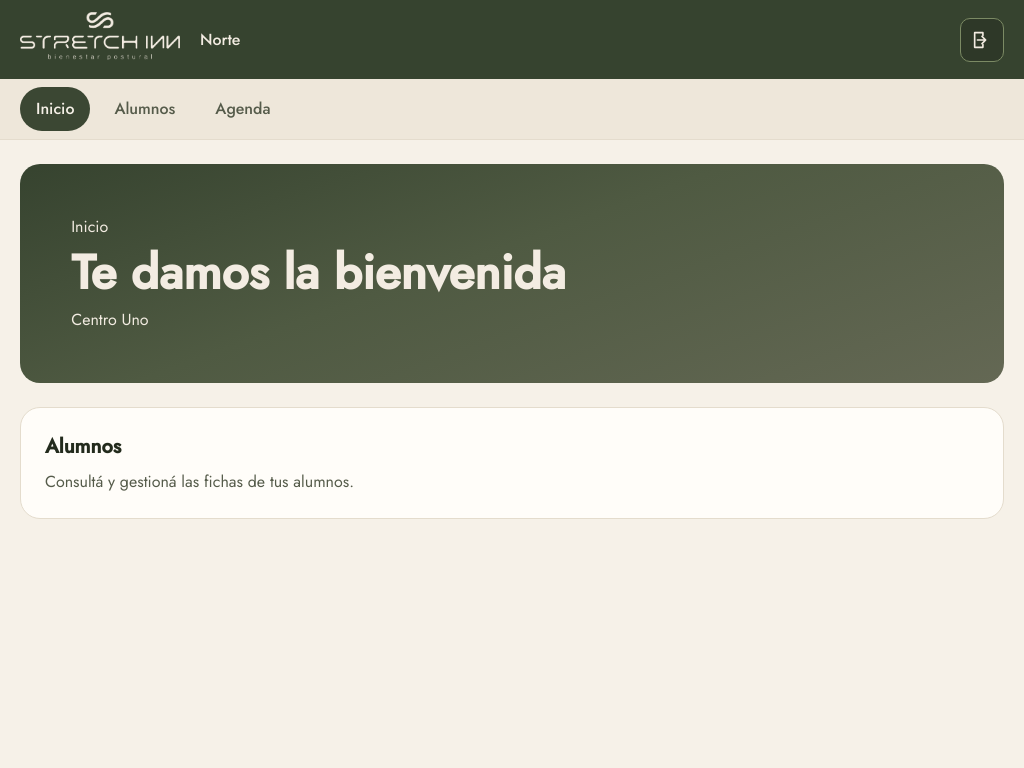
it: después de confirmar bien limpia la búsqueda y el alumno elegido y avisa
Click the link "Agenda" at (243,109), box [215,97,270,120]
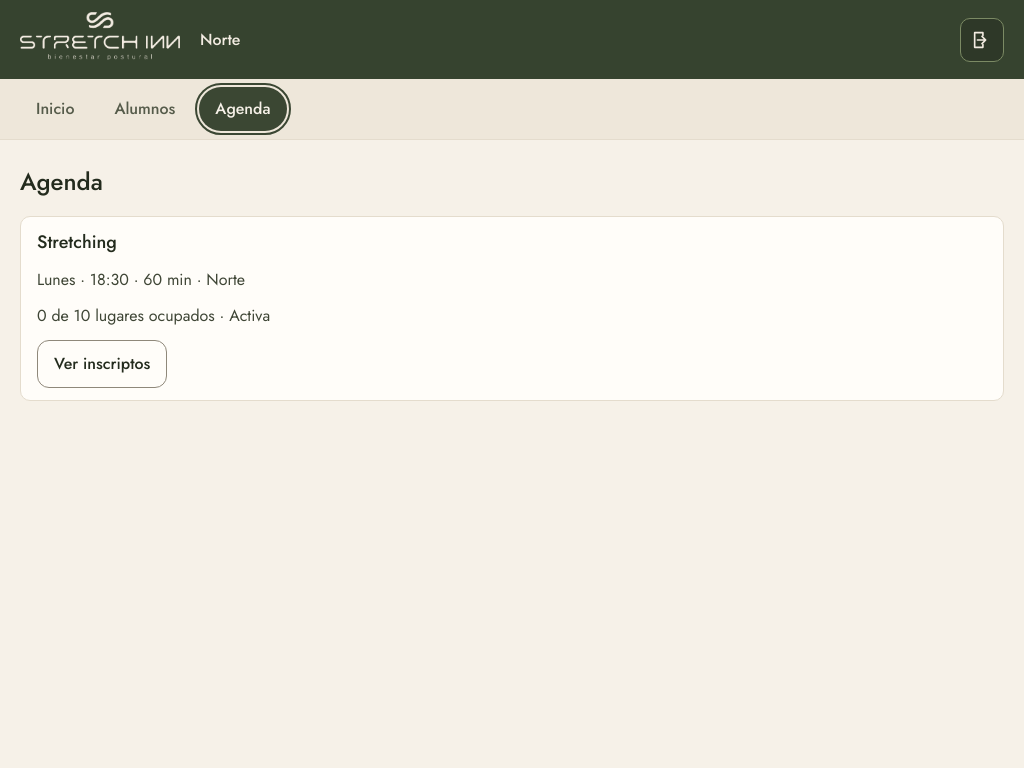
Click the button "Ver inscriptos" at (102,364), box [37,340,167,388]
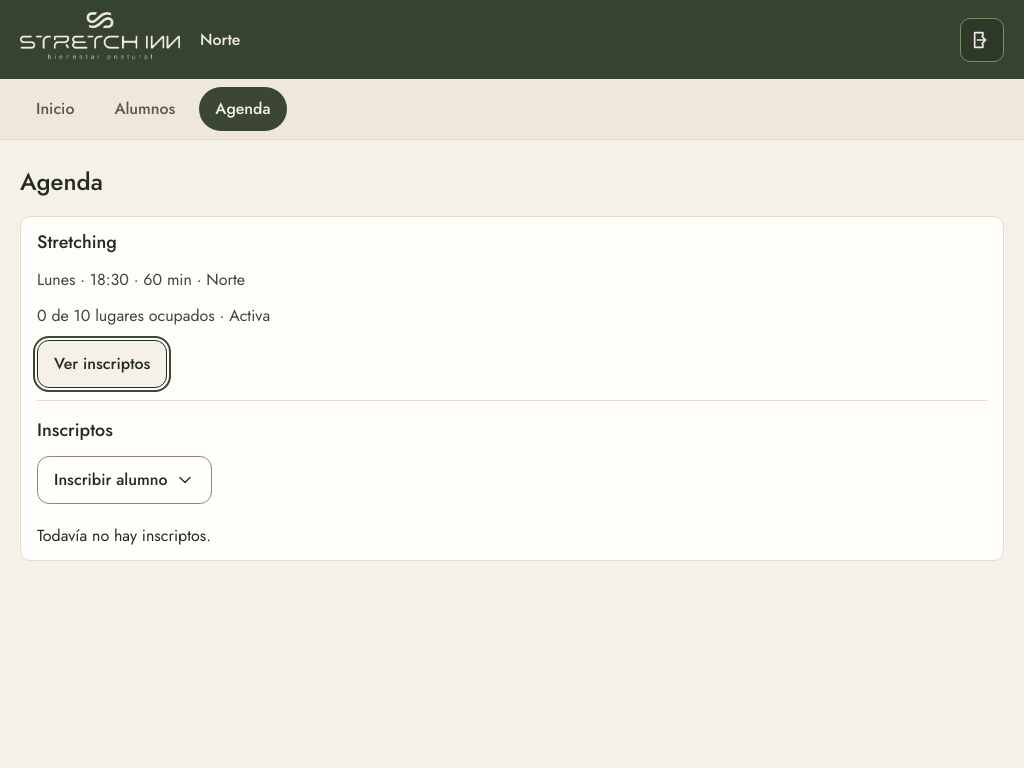
Click the heading "Inscribir alumno" at (125,480), box [37,456,212,504]
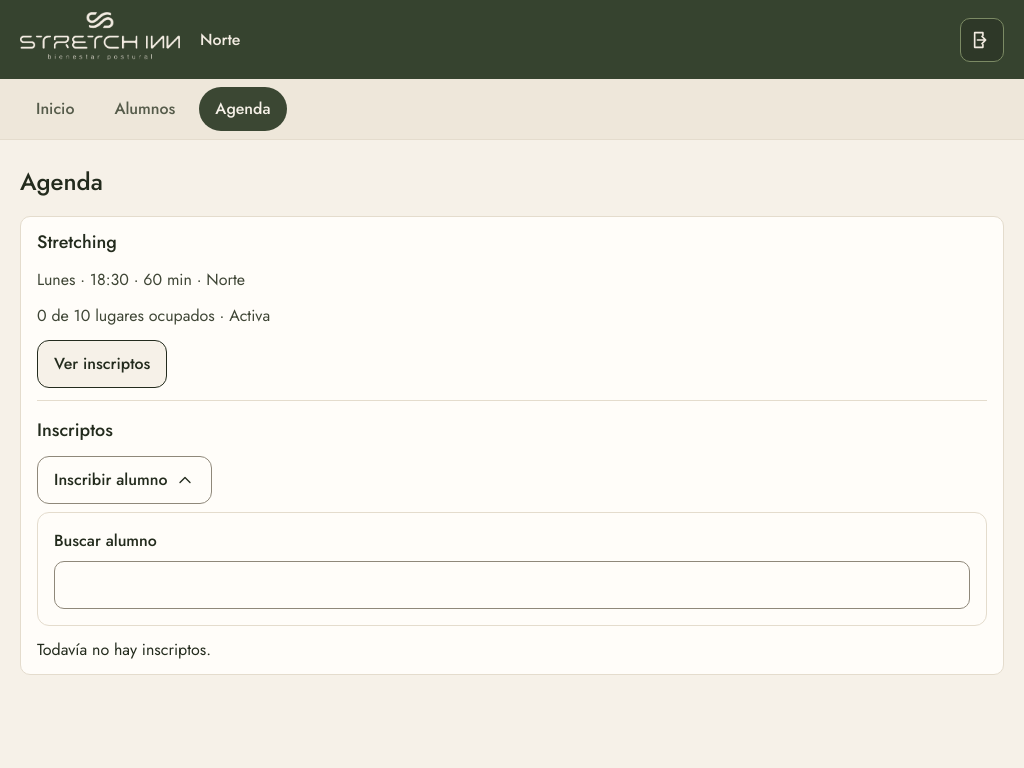
Type "Ana" into the search field labelled "Buscar alumno" at (512,585), box [54,561,970,609]
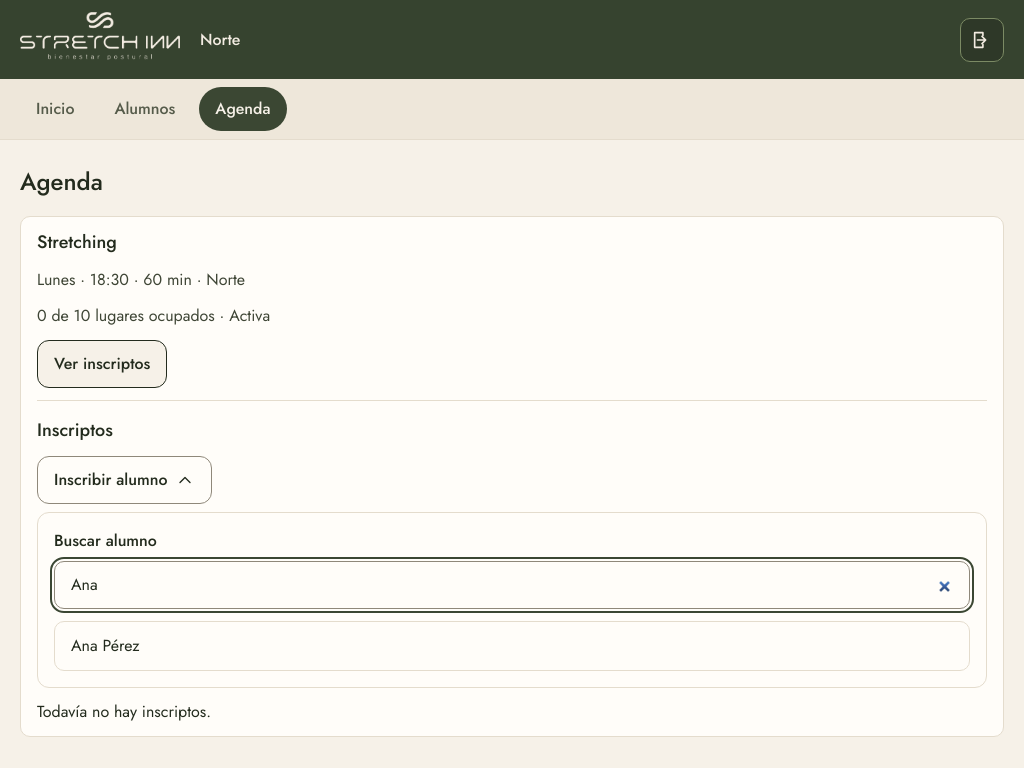
Click the button "Ana Pérez" at (121,646), box [55,622,969,670]
(page scrolled)
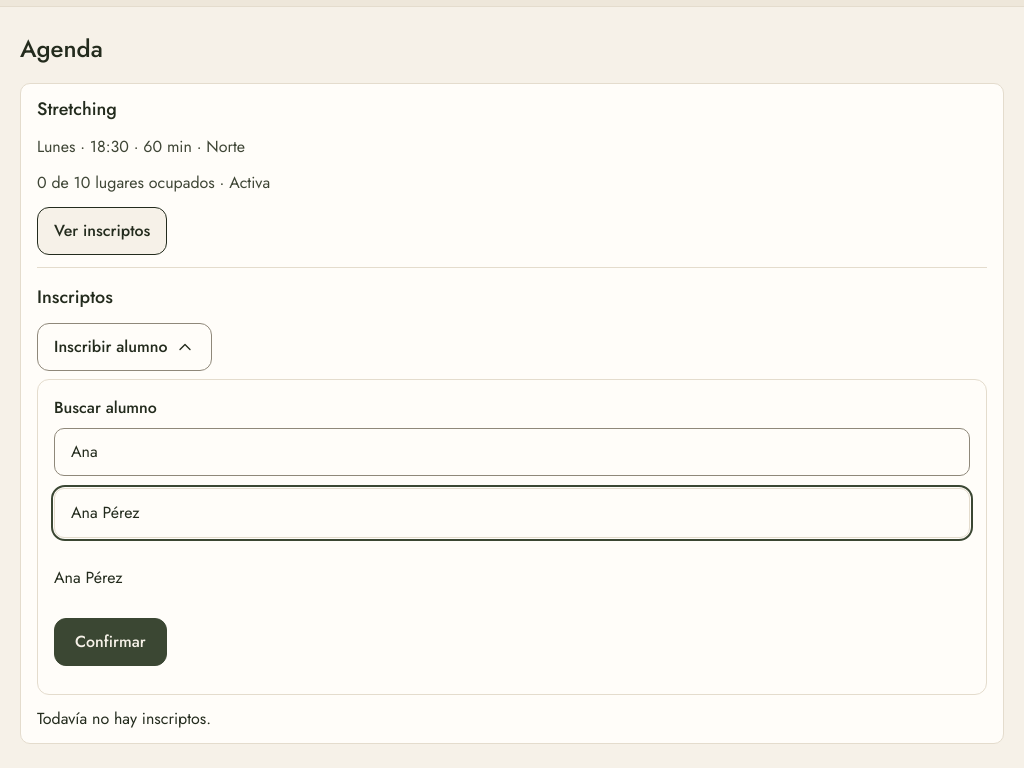
Click the button "Confirmar" at (110,642), box [54,618,167,666]
(page scrolled)
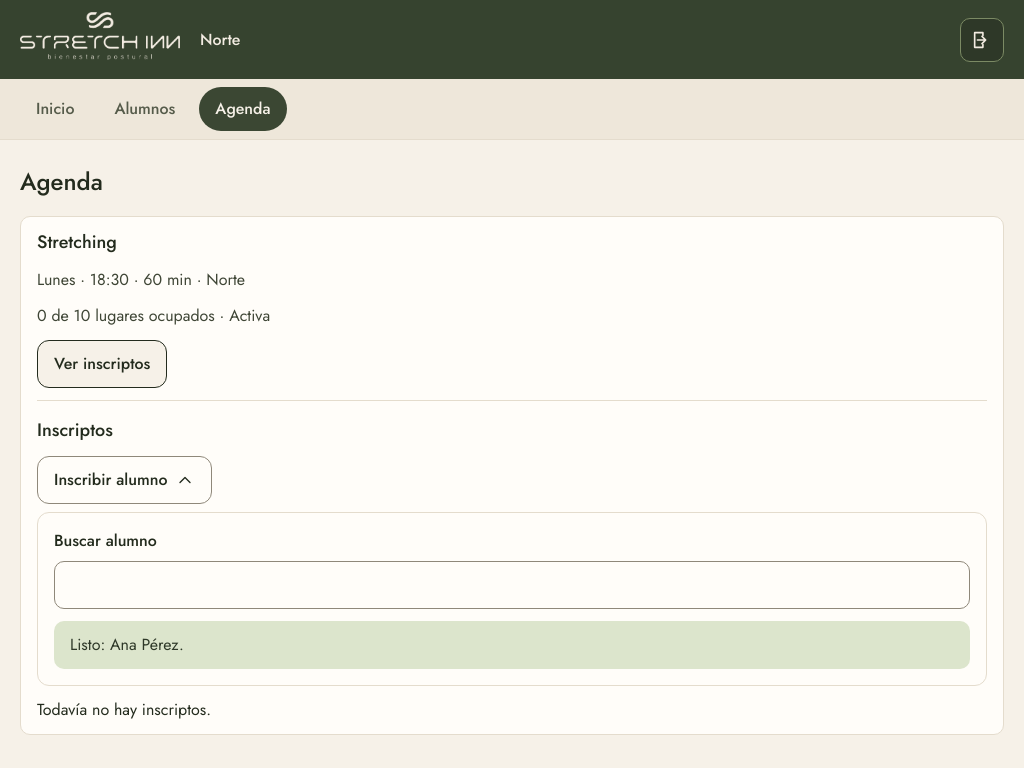
Check: the text "Listo: Ana Pérez." is shown, box [54,621,970,669]
Check: the search field labelled "Buscar alumno" is empty, box [54,561,970,609]
Check: the button "Confirmar" is gone
